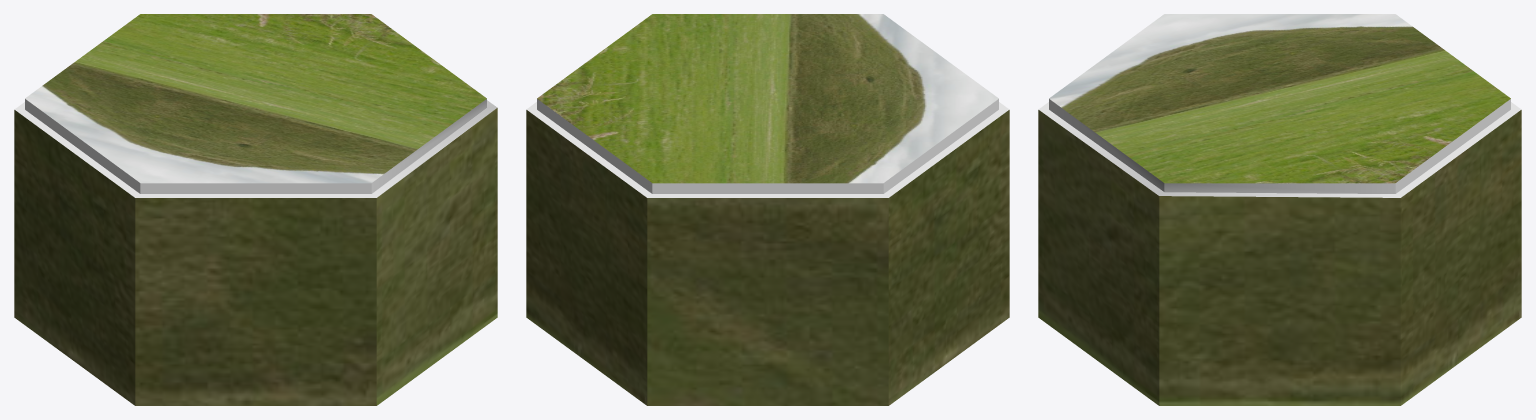
The model's file is HillHexagon.fbx.
The picture shows the model from 3 angles, left to right: view 1: azimuth 30°, elevation 25°; view 2: azimuth 150°, elevation 25°; view 3: azimuth 270°, elevation 25°; orthographic projection.
Visible parts, largest first — view 1: Cylinder; view 2: Cylinder; view 3: Cylinder.
Part boxes in pixels (bbox=[...]): Cylinder: bbox=[14, 14, 497, 405]; Cylinder: bbox=[526, 14, 1009, 405]; Cylinder: bbox=[1038, 14, 1521, 405].
Size of the model in its own units: 173 by 100 by 200.
